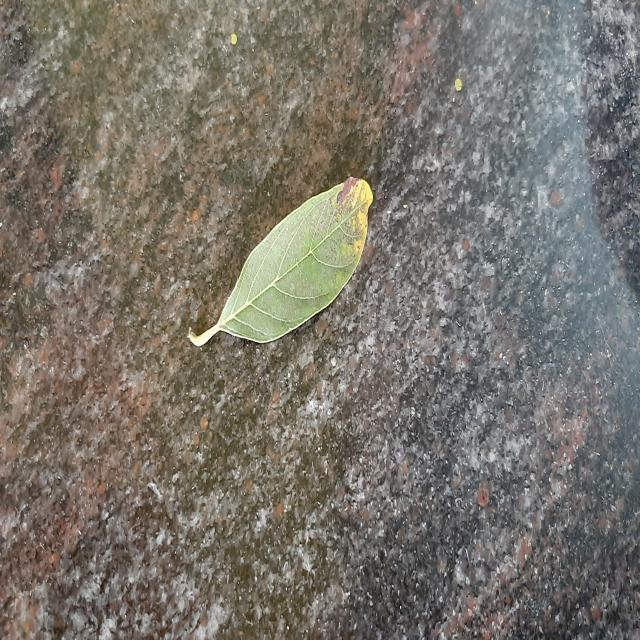leaf: (187, 174, 373, 347)
